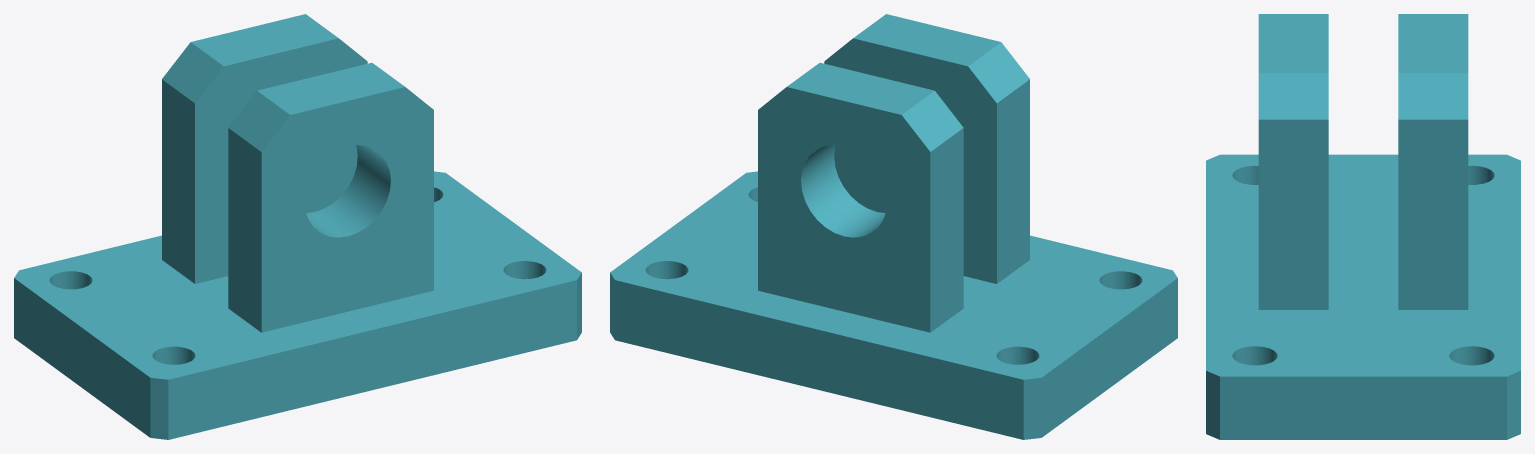
3 renders of one model, left to right at view 1: azimuth 30°, elevation 25°; view 2: azimuth 150°, elevation 25°; view 3: azimuth 270°, elevation 25°, orthographic. The views are drawn at different scales.
Visible parts, largest first — view 1: Solid1; view 2: Solid1; view 3: Solid1.
Boxes of the visible parts, <box> form: Solid1: <box>14,14,581,439</box>; Solid1: <box>610,14,1177,439</box>; Solid1: <box>1206,14,1520,439</box>.
Size of the model in its own units: 0.075 by 0.045 by 0.045.
